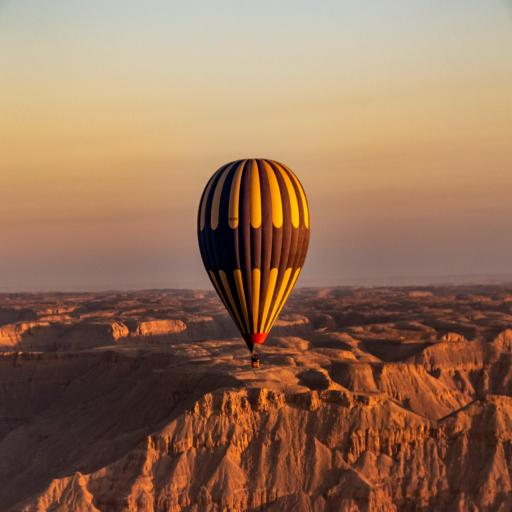hot air ballon: (196, 156, 310, 368)
